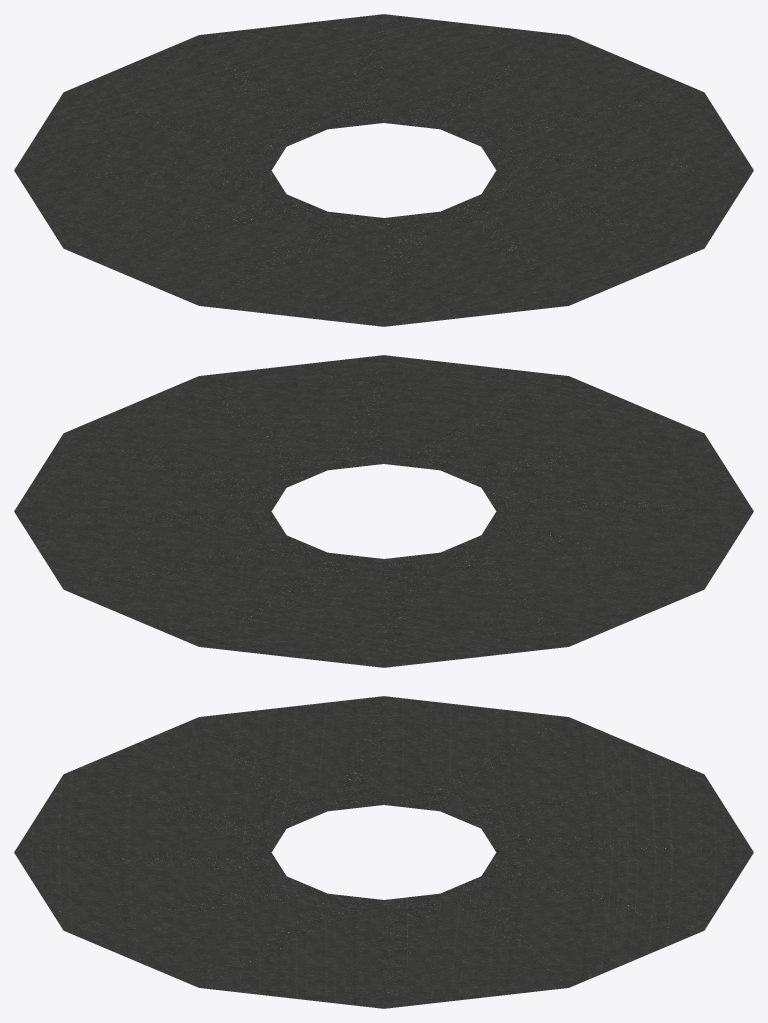
The model's file is main_floor1.fbx.
3 views of the same model, one above another, from view 1: azimuth 30°, elevation 25°; view 2: azimuth 150°, elevation 25°; view 3: azimuth 270°, elevation 25° (orthographic).
Parts seen in each view (by area): view 1: floor009; view 2: floor009; view 3: floor009.
Boxes of the visible parts, x1=… form: floor009: x1=14, y1=14, x2=753, y2=326; floor009: x1=14, y1=355, x2=753, y2=667; floor009: x1=14, y1=696, x2=753, y2=1008.
Size of the model in its own units: 19.62 by 4.37e-13 by 19.62.
